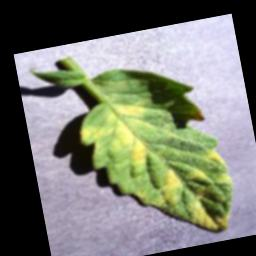Leaf_Mold: (126, 145, 241, 247), (74, 97, 155, 174)
